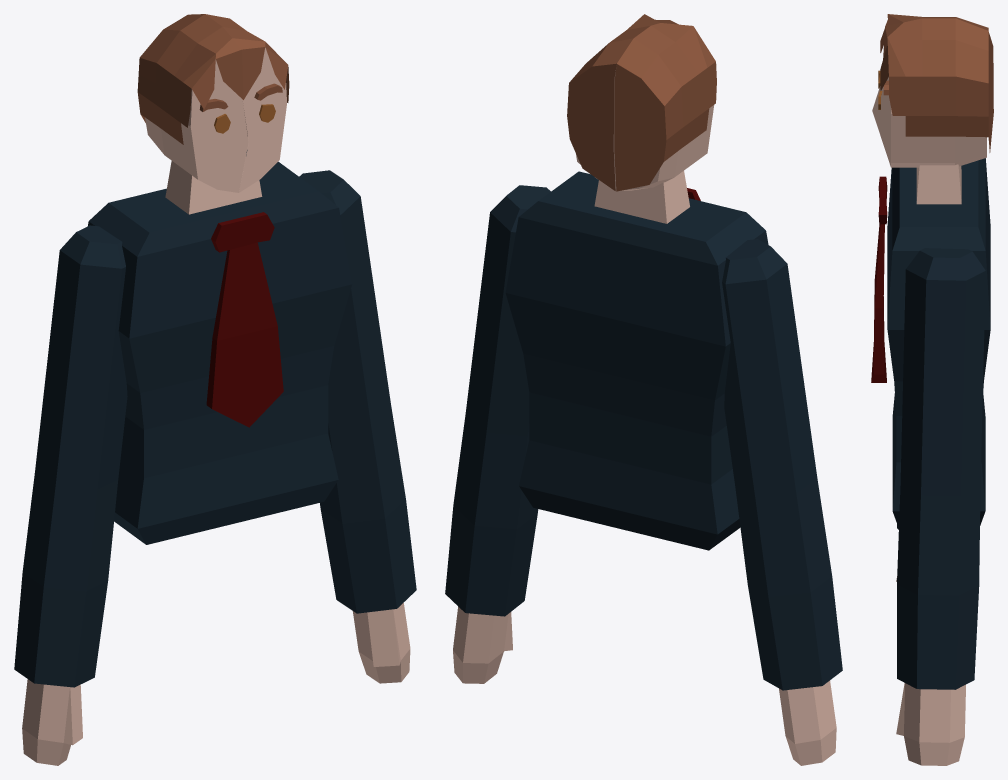
The model's file is Jornalista.fbx.
3 renders of one model, left to right at view 1: azimuth 30°, elevation 25°; view 2: azimuth 150°, elevation 25°; view 3: azimuth 270°, elevation 25°, orthographic. The views are drawn at different scales.
Visible parts, largest first — view 1: Circle, Torso, Grvsata, Cabelo, Cabeça; view 2: Torso, Circle, Cabelo, Cabeça; view 3: Circle, Torso, Cabelo, Cabeça, Grvsata.
Boxes of the visible parts, bbox=[...] form: Circle: bbox=[14, 170, 416, 765]; Torso: bbox=[88, 150, 352, 544]; Grvsata: bbox=[206, 212, 283, 427]; Cabelo: bbox=[137, 14, 289, 144]; Cabeça: bbox=[145, 47, 286, 192]; Torso: bbox=[505, 171, 768, 550]; Circle: bbox=[445, 185, 842, 765]; Cabelo: bbox=[567, 14, 716, 191]; Cabeça: bbox=[576, 70, 714, 190]; Circle: bbox=[896, 248, 985, 765]; Torso: bbox=[887, 158, 990, 525]; Cabelo: bbox=[880, 14, 993, 152]; Cabeça: bbox=[872, 77, 986, 167]; Grvsata: bbox=[871, 176, 887, 382].
Bounding box in the file's own units: 79.55 × 138 × 23.11.
